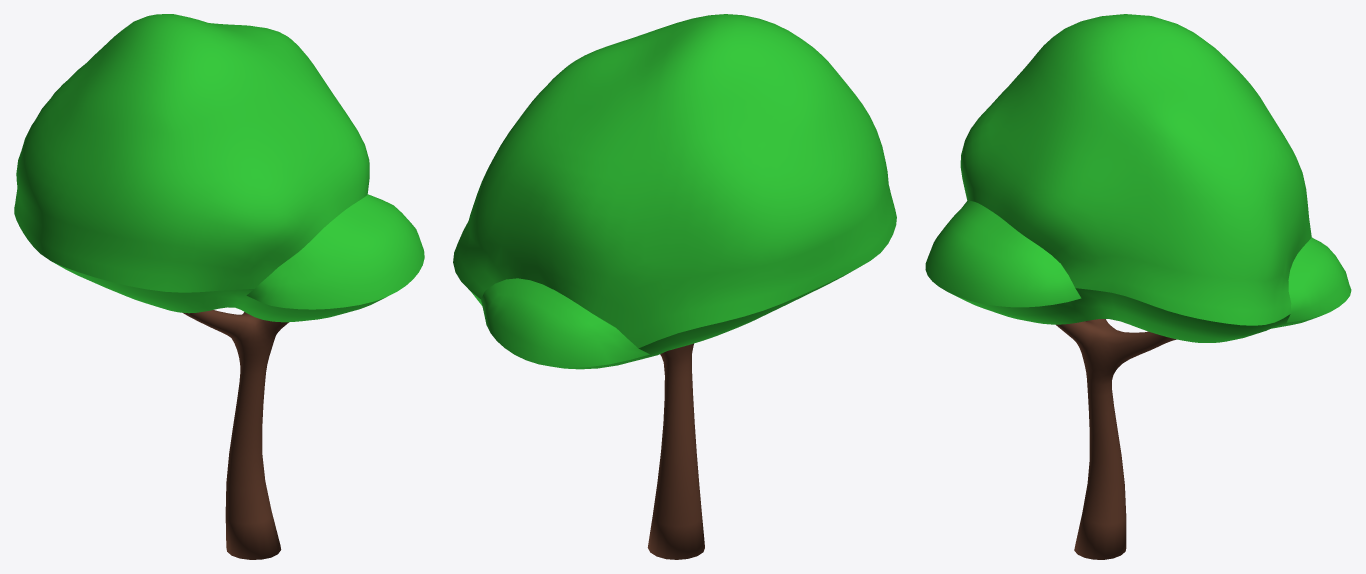
File: tree_05.fbx
The picture shows the model from 3 angles, left to right: view 1: azimuth 30°, elevation 25°; view 2: azimuth 150°, elevation 25°; view 3: azimuth 270°, elevation 25°; orthographic projection. The views are drawn at different scales.
Parts seen in each view (by area): view 1: tree2_Icosphere.005; view 2: tree2_Icosphere.005; view 3: tree2_Icosphere.005.
Part boxes in pixels (box(x1,y1,x2,y2)): tree2_Icosphere.005: box(14, 14, 424, 559); tree2_Icosphere.005: box(453, 14, 896, 559); tree2_Icosphere.005: box(925, 14, 1351, 559).
Size of the model in its own units: 409 by 600 by 462.
